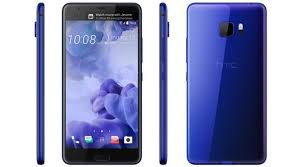htc: (59, 3, 144, 165), (183, 2, 268, 164)
